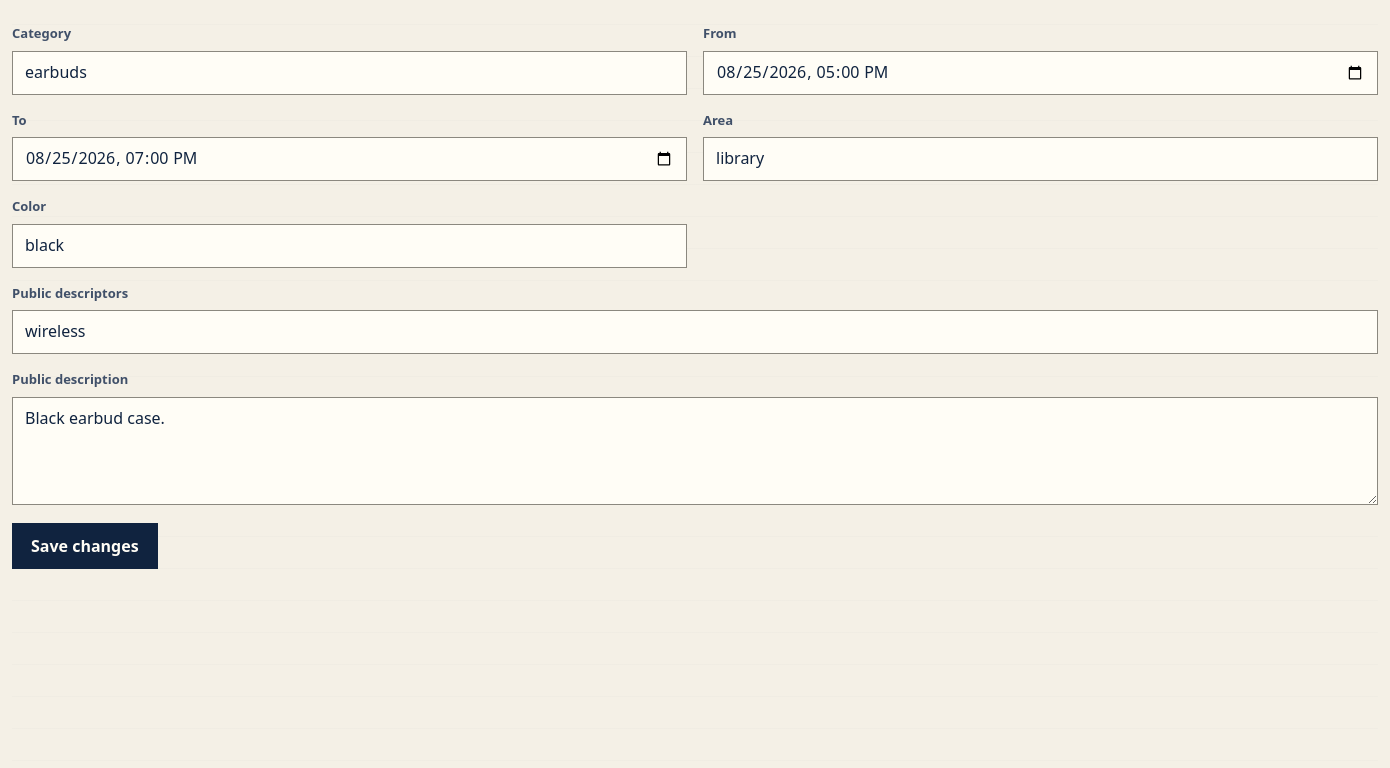
it: Claimant report workspace components › rejects invalid update intent before writer
Replace the text in the field labelled "Category" with "!!!" at (350, 72), box left=12, top=50, right=687, bottom=94
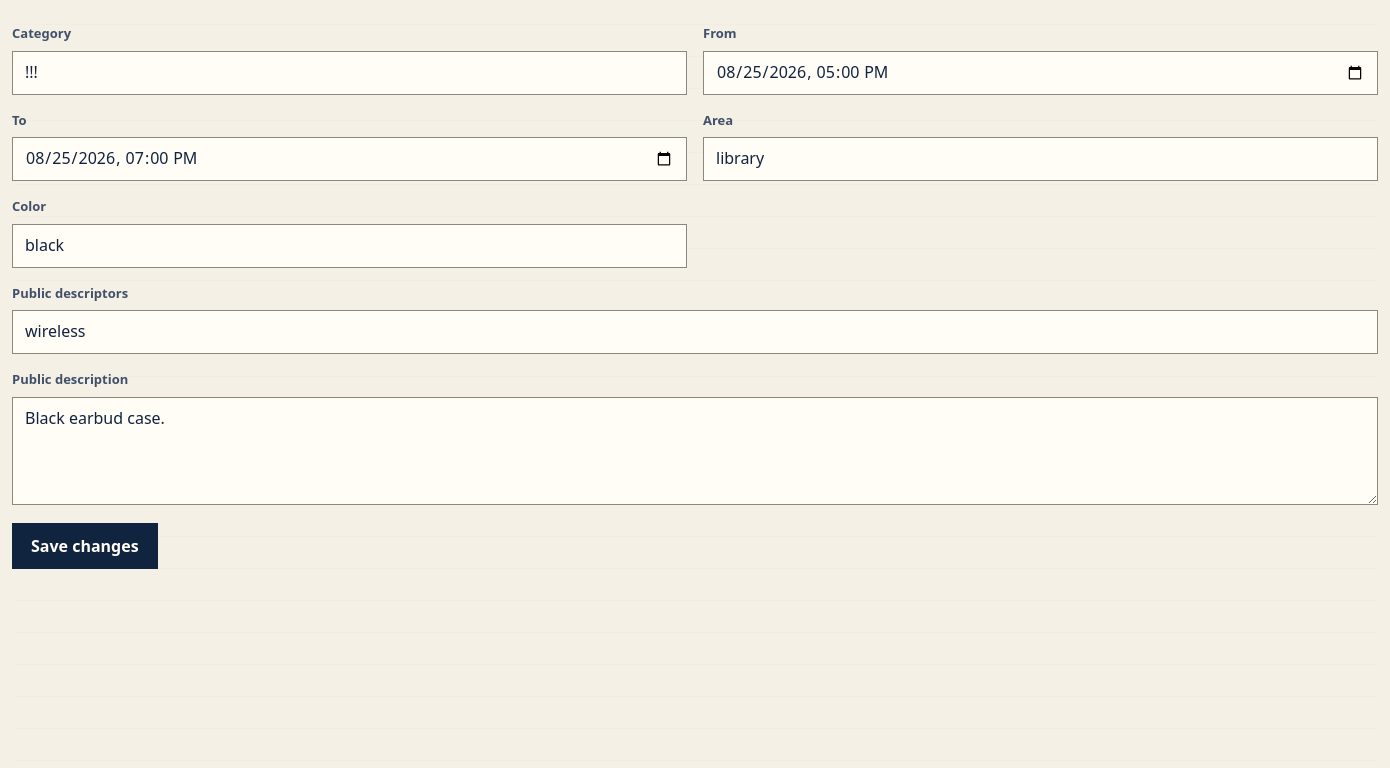
Submit the form
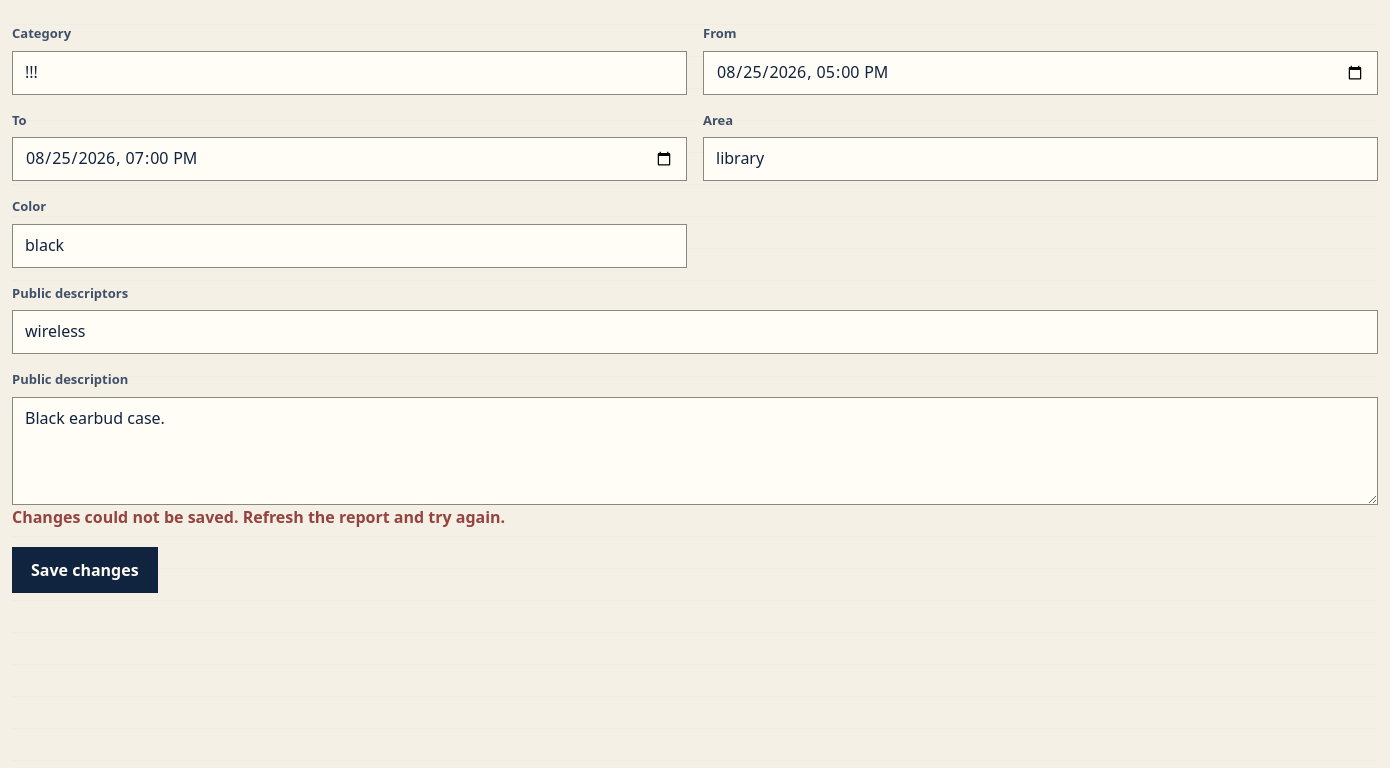
expect the message "Changes could not be saved. Refresh the report and try again." is shown: met, box left=12, top=506, right=505, bottom=528
